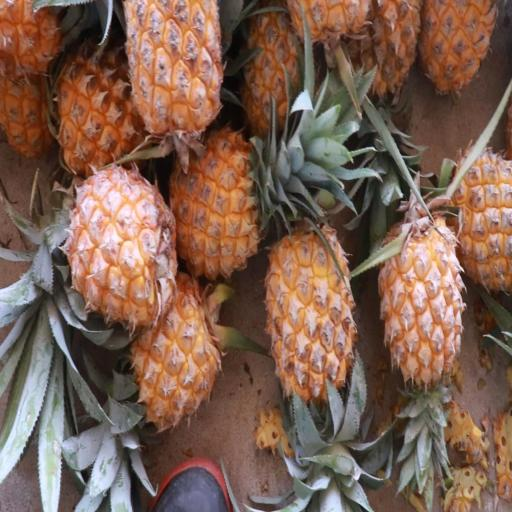Pineapple - v8 v1: (61, 159, 181, 331), (264, 218, 362, 402), (167, 126, 281, 281), (376, 201, 468, 391), (126, 270, 224, 434), (126, 0, 228, 147), (53, 33, 153, 175), (447, 135, 512, 300)
